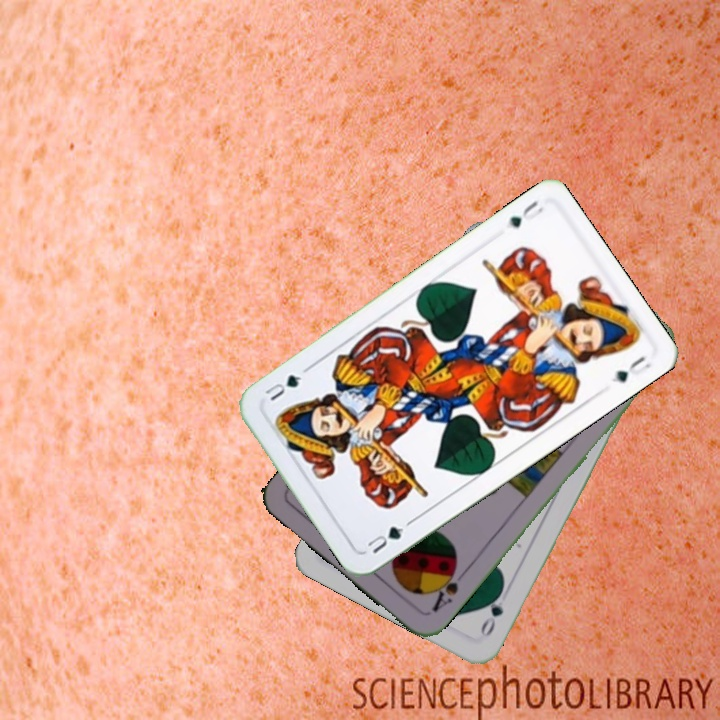GO: (476, 584, 506, 640)
GU: (361, 517, 414, 557), (504, 196, 546, 231)
SA: (427, 561, 469, 615)
